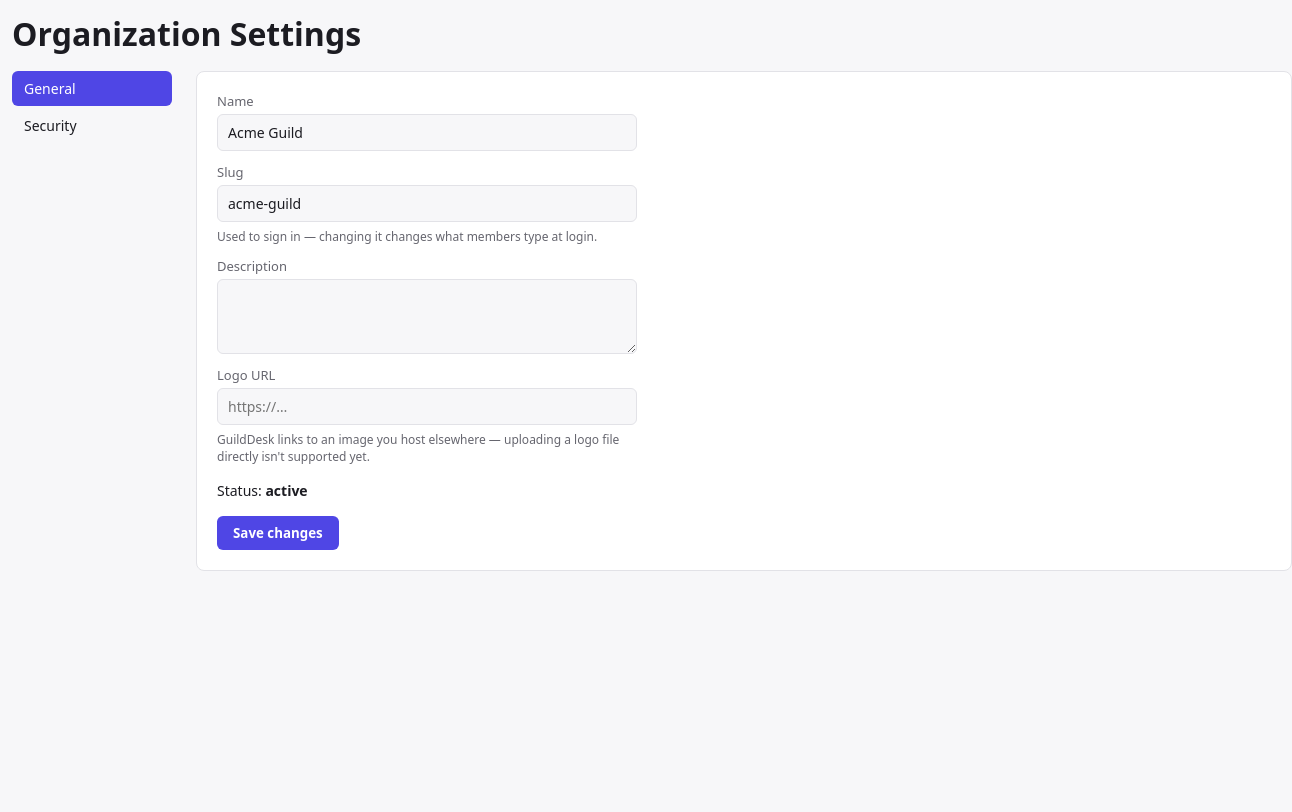
Test case: SettingsPage › shows an error message when saving fails
The width and height of the screenshot is (1292, 812).
Expected: the field showing "Acme Guild" is shown, [217,114,637,151]
Step 1. Click the button "Save changes" → [278, 533], box [217,516,339,550]
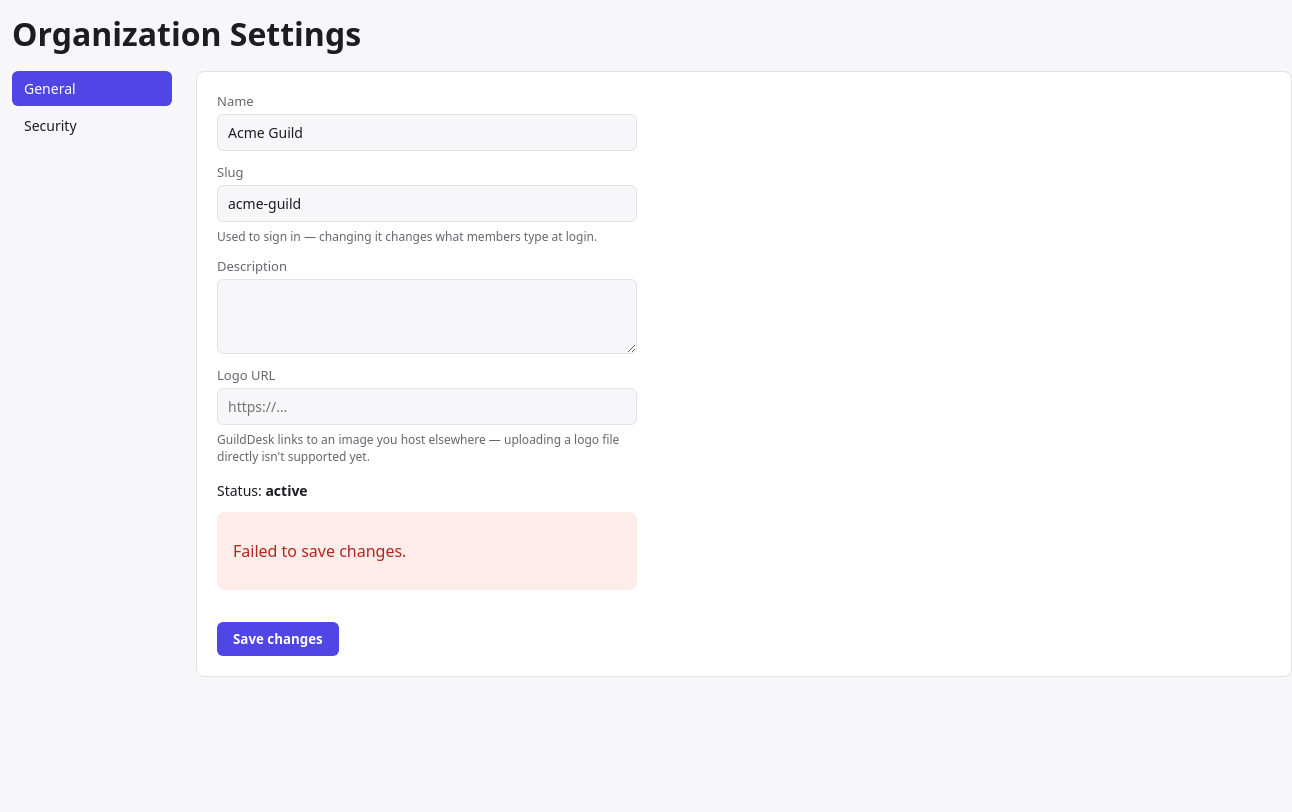
Result: the text "Failed to save changes." is shown at [233,540,406,562]
